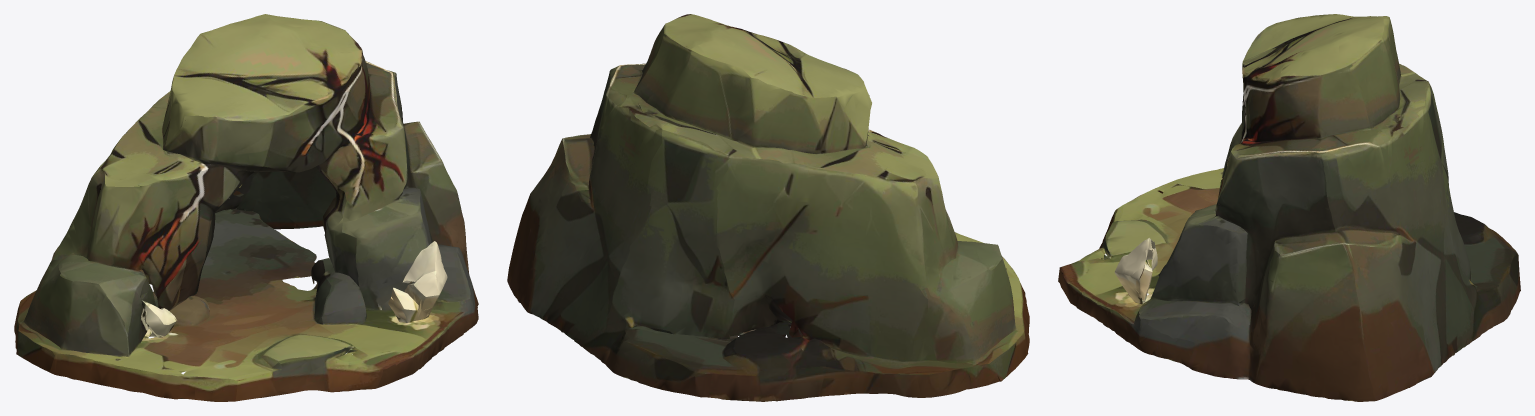
The model's file is thunder_beast_den.glb.
3 renders of one model, left to right at view 1: azimuth 30°, elevation 25°; view 2: azimuth 150°, elevation 25°; view 3: azimuth 270°, elevation 25°, orthographic. The views are drawn at different scales.
Parts seen in each view (by area): view 1: thunder_beast_den; view 2: thunder_beast_den; view 3: thunder_beast_den.
Part boxes in pixels (<box>): thunder_beast_den: <box>14,14,478,401</box>; thunder_beast_den: <box>507,14,1029,401</box>; thunder_beast_den: <box>1058,14,1520,401</box>.
Size of the model in its own units: 3.5 by 1.97 by 3.
1 material, 1 textured.
